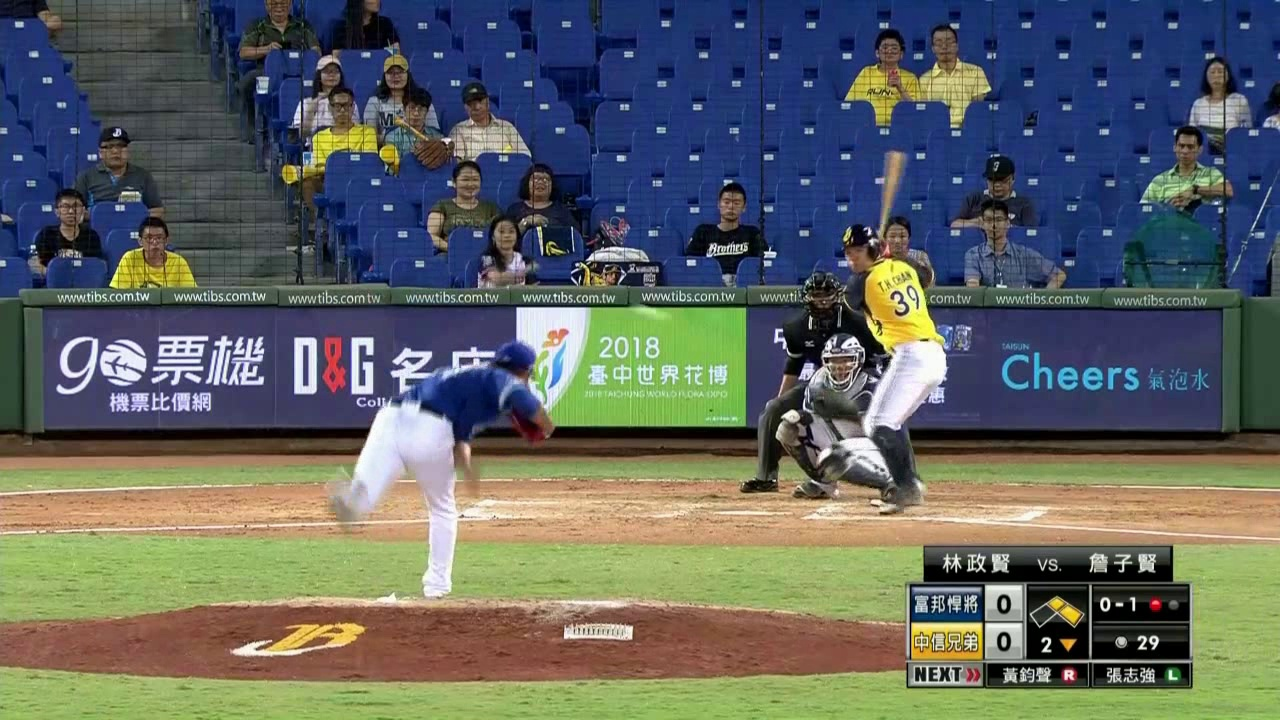ball: (640, 304, 655, 320)
base: (1026, 587, 1087, 628)
bat: (873, 148, 911, 244)
out: (1143, 585, 1187, 619)
score1: (986, 588, 1021, 617)
score2: (986, 625, 1023, 657)
session: (1026, 627, 1083, 660)
strikeball: (1093, 585, 1142, 621)
total: (1097, 628, 1183, 656)
